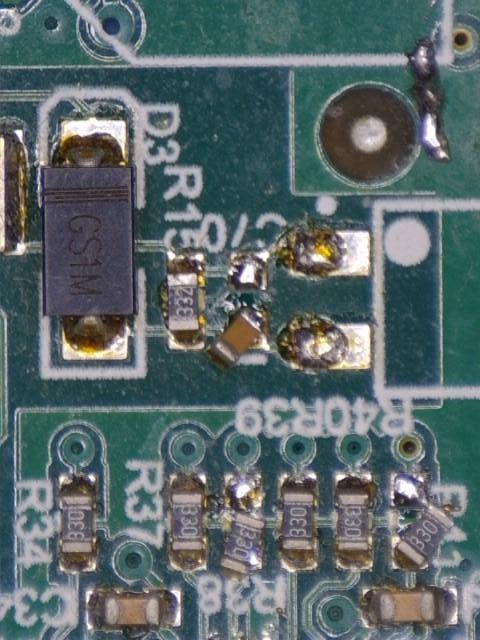pcb_defect: (387, 472, 456, 572), (220, 471, 267, 575), (206, 307, 268, 369)
